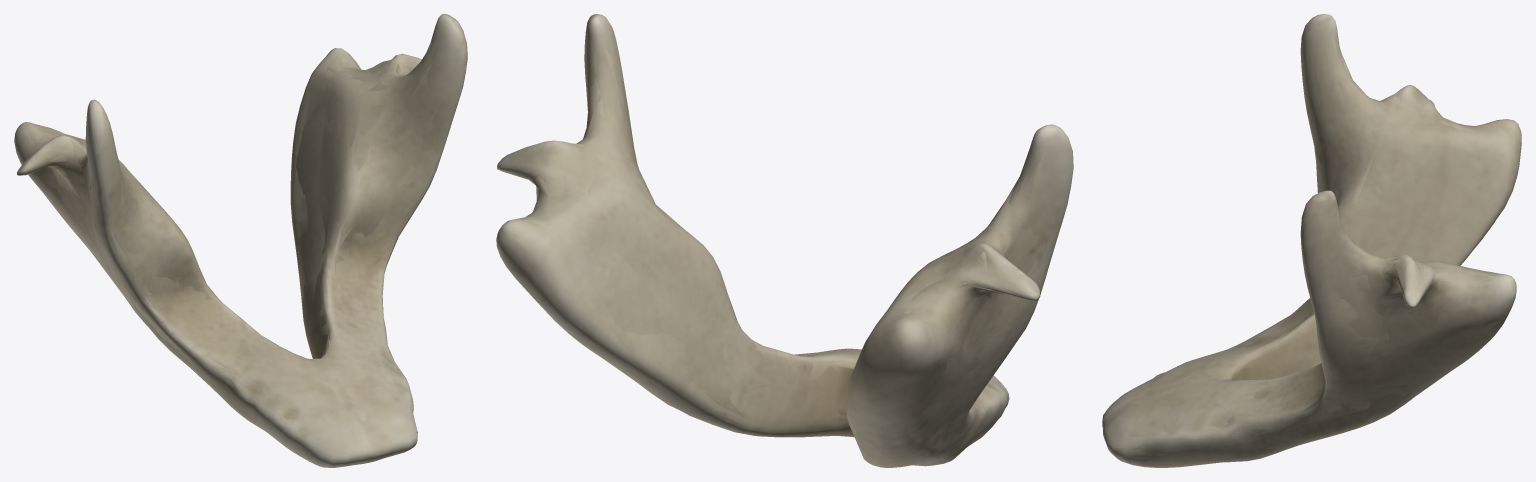
File: Mandibula.fbx
3 views of the same model, side by side, from view 1: azimuth 30°, elevation 25°; view 2: azimuth 150°, elevation 25°; view 3: azimuth 270°, elevation 25° (orthographic). The views are drawn at different scales.
Visible parts, largest first — view 1: Mandibula high, Mandibula, Mandibula low; view 2: Mandibula high, Mandibula, Mandibula low; view 3: Mandibula high, Mandibula, Mandibula low.
Boxes of the visible parts, x1,y1,x2,y2 form: Mandibula high: (15,14,467,467); Mandibula: (14,14,467,467); Mandibula low: (33,38,436,452); Mandibula high: (496,14,1073,467); Mandibula: (496,14,1073,467); Mandibula low: (519,48,1056,464); Mandibula high: (1102,14,1521,467); Mandibula: (1102,14,1521,466); Mandibula low: (1102,49,1496,459).
Size of the model in its own units: 5.52 by 4.25 by 4.61.
1 material, 1 textured.
